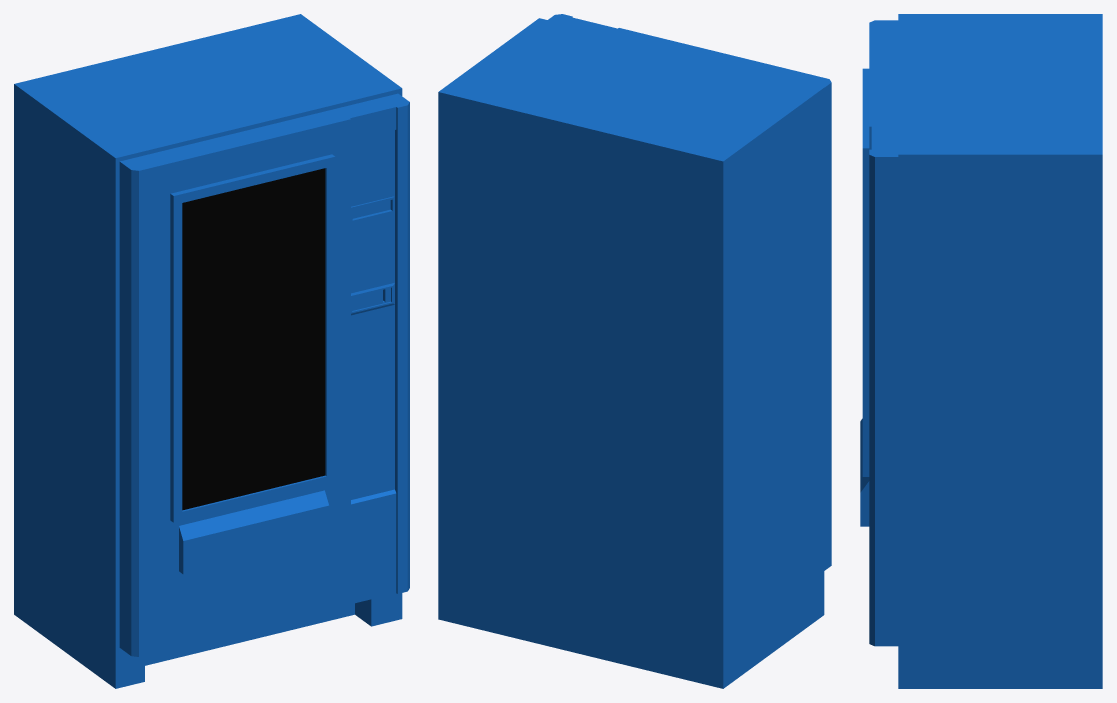
Rendered from Psp_vending_machine.fbx.
3 renders of one model, left to right at view 1: azimuth 30°, elevation 25°; view 2: azimuth 150°, elevation 25°; view 3: azimuth 270°, elevation 25°, orthographic.
Visible parts, largest first — view 1: Cube_23; view 2: Cube_23; view 3: Cube_23.
Boxes of the visible parts, <box> form: Cube_23: <box>14,14,409,688</box>; Cube_23: <box>438,14,831,688</box>; Cube_23: <box>860,14,1102,688</box>.
Bounding box in the file's own units: 113 × 200 × 82.43.
